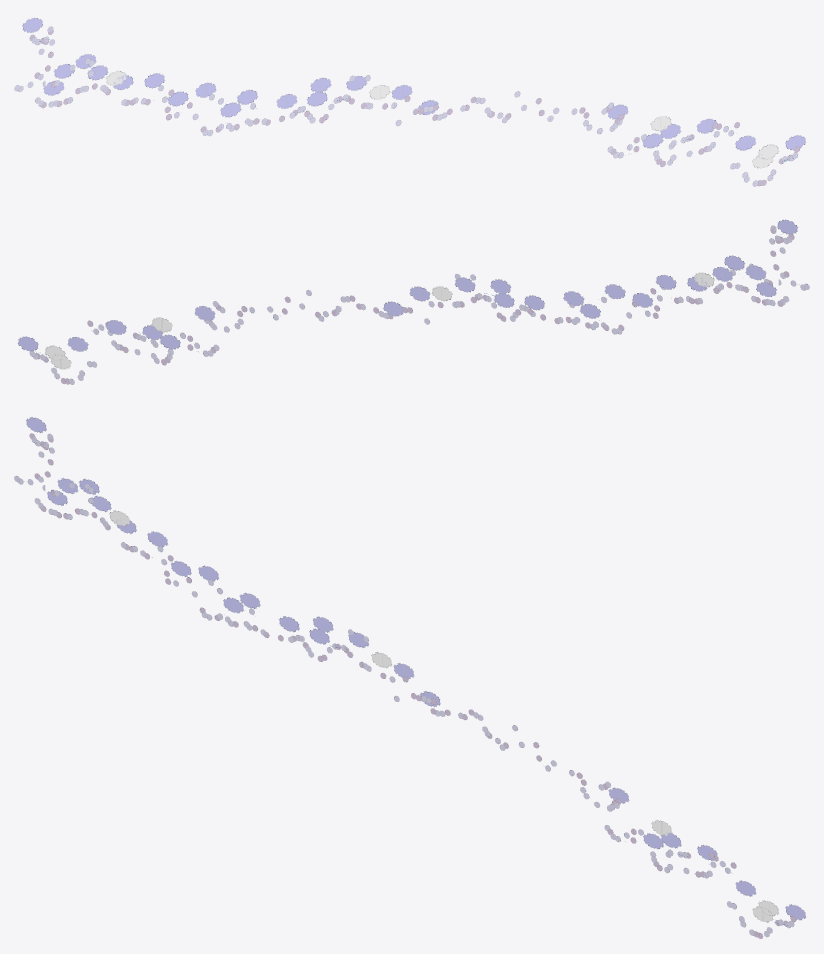
File: snow03_bg.glb
The picture shows the model from 3 angles, top to bottom: view 1: azimuth 30°, elevation 25°; view 2: azimuth 150°, elevation 25°; view 3: azimuth 330°, elevation 25°; orthographic projection.
Parts seen in each view (by area): view 1: snow03_bg; view 2: snow03_bg; view 3: snow03_bg.
Part boxes in pixels (x1=…): snow03_bg: x1=14, y1=17, x2=806, y2=186; snow03_bg: x1=17, y1=219, x2=809, y2=384; snow03_bg: x1=14, y1=417, x2=806, y2=938.
Size of the model in its own units: 13200 by 5452 by 135.
Materials: 6 (6 with a texture image).
